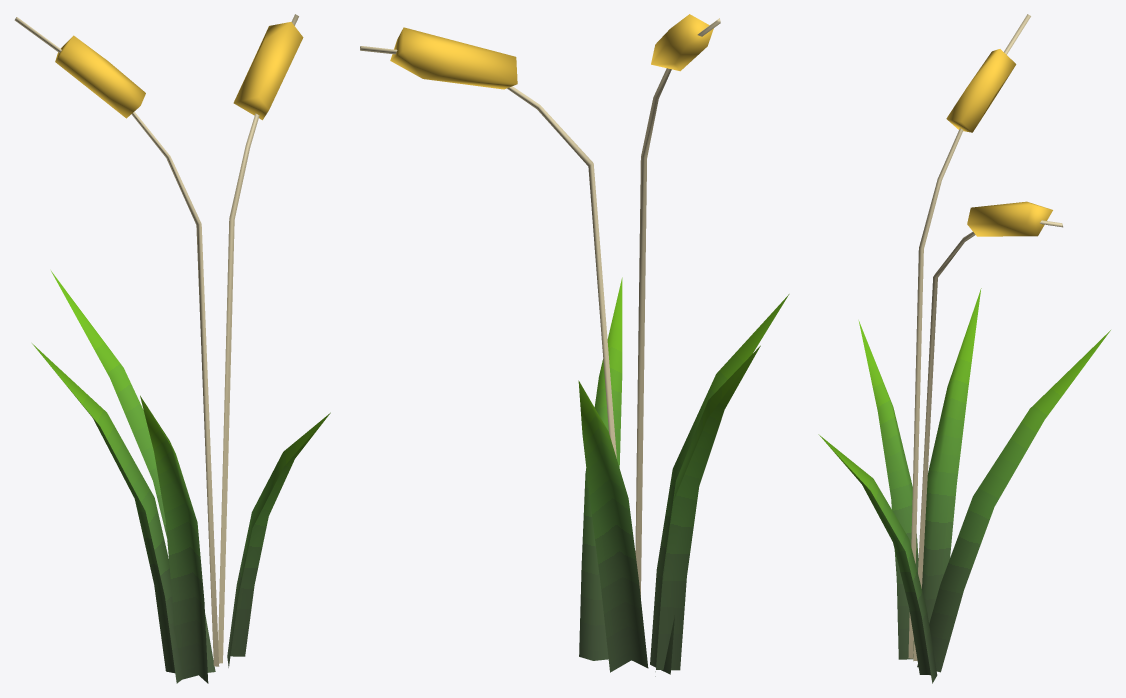
The model's file is Grass_01.FBX.
3 renders of one model, left to right at view 1: azimuth 30°, elevation 25°; view 2: azimuth 150°, elevation 25°; view 3: azimuth 270°, elevation 25°, orthographic. The views are drawn at different scales.
Visible parts, largest first — view 1: Grass_01; view 2: Grass_01; view 3: Grass_01.
Part boxes in pixels (x1,y1,x2,y2): Grass_01: (14, 14, 330, 683); Grass_01: (360, 14, 789, 676); Grass_01: (818, 14, 1110, 683).
Size of the model in its own units: 101 by 201 by 89.99.
